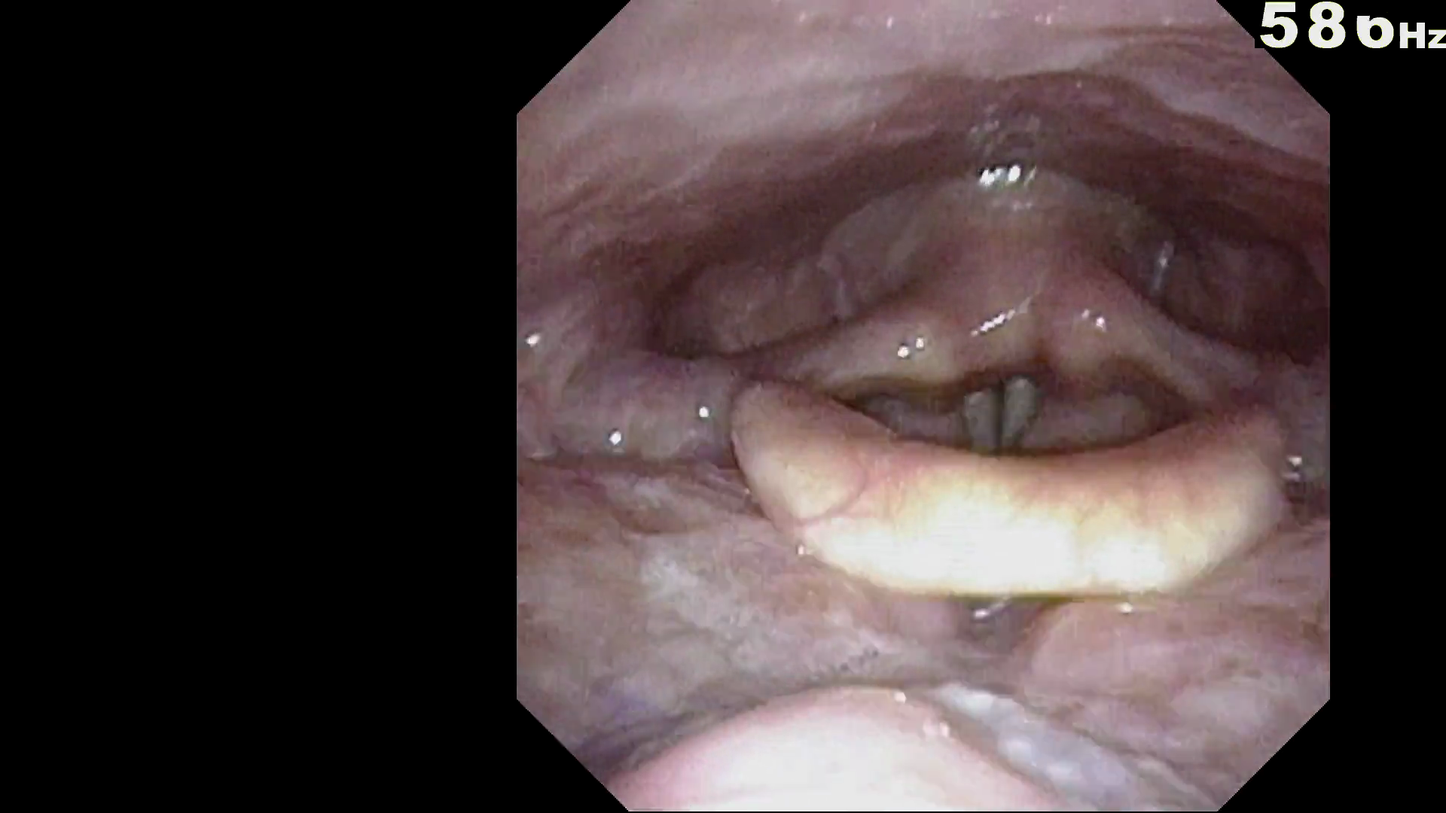epiglottis: (764, 292, 1201, 436)
